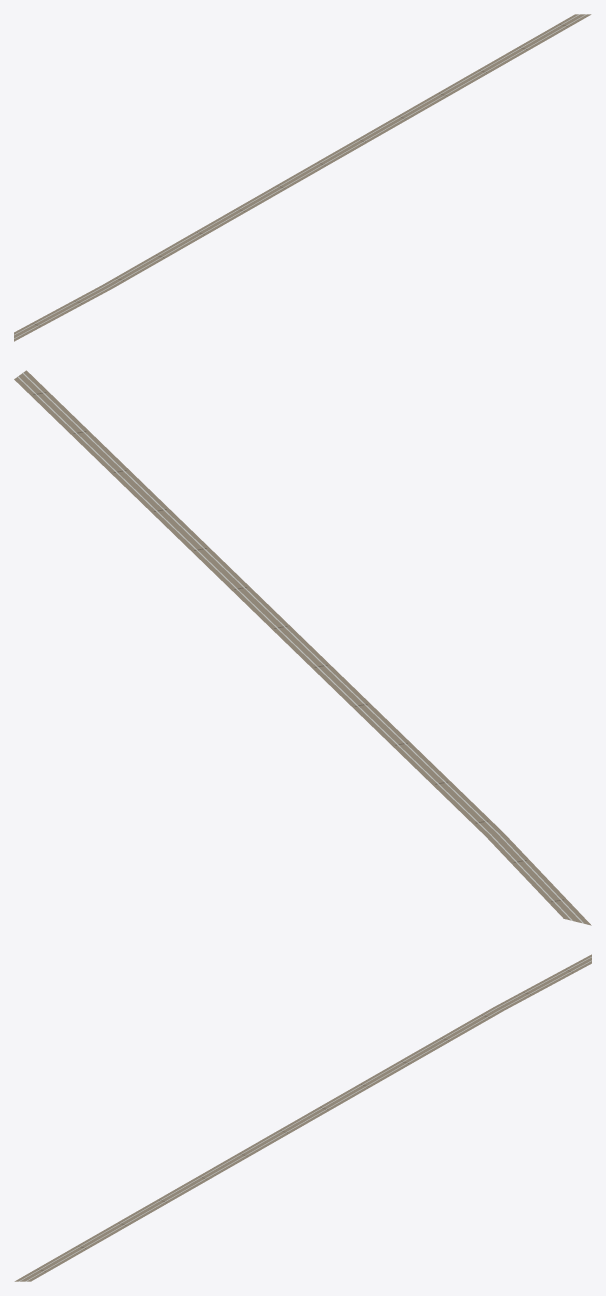
3 views of the same model, one above another, from view 1: azimuth 90°, elevation 25°; view 2: azimuth 150°, elevation 25°; view 3: azimuth 270°, elevation 25° (orthographic). The views are drawn at different scales.
Visible parts, largest first — view 1: rail; view 2: rail; view 3: rail.
Boxes of the visible parts, x1,y1,x2,y2 form: rail: [14, 14, 591, 341]; rail: [14, 370, 591, 925]; rail: [14, 954, 591, 1281].
Bounding box in the file's own units: 205 × 0.04 × 153.
